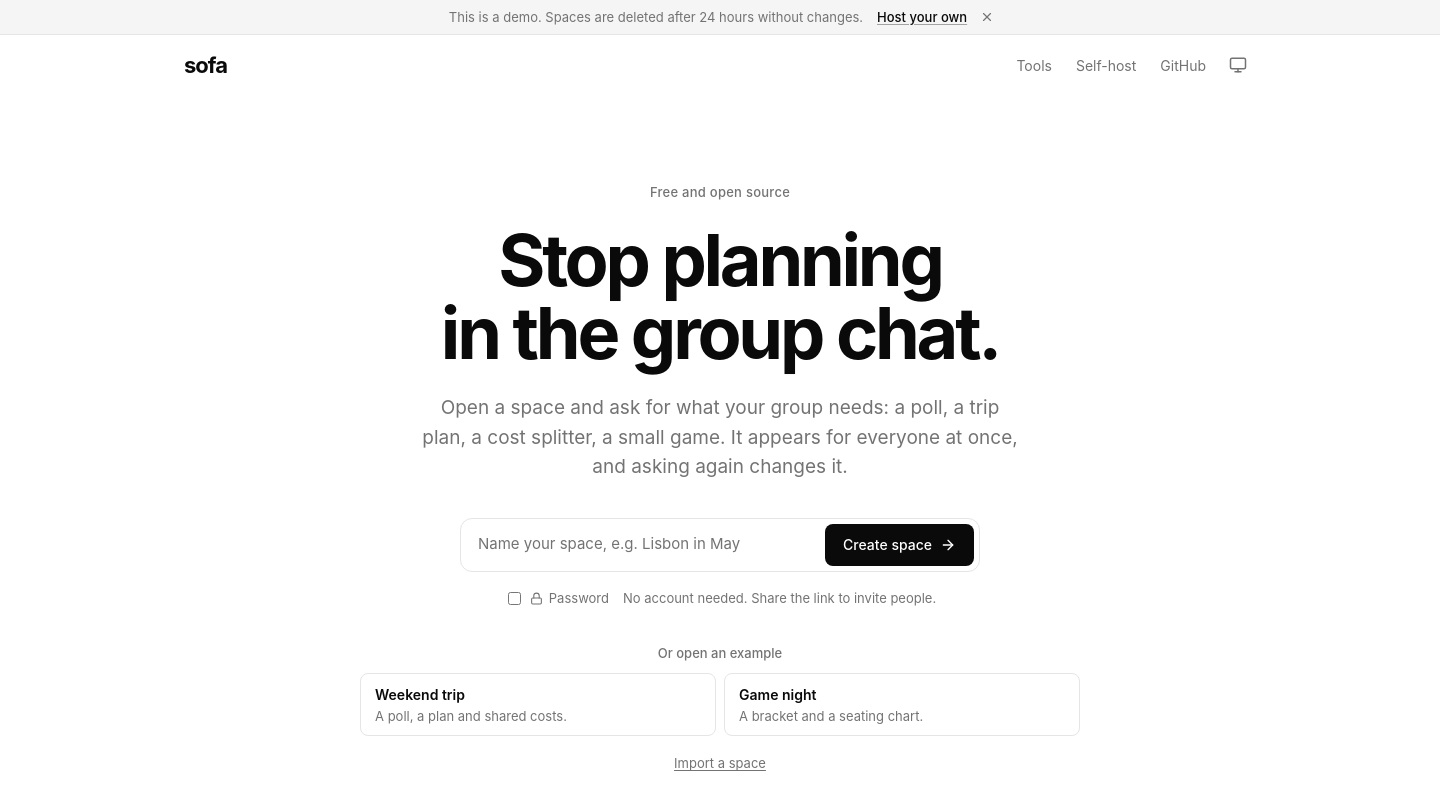
examples on the landing page › creates a user id when nobody has chosen a name yet, and shows errors inline
Click the button "Game night A bracket and a seating chart.". click: (778, 695)
box: [724, 673, 1080, 736]
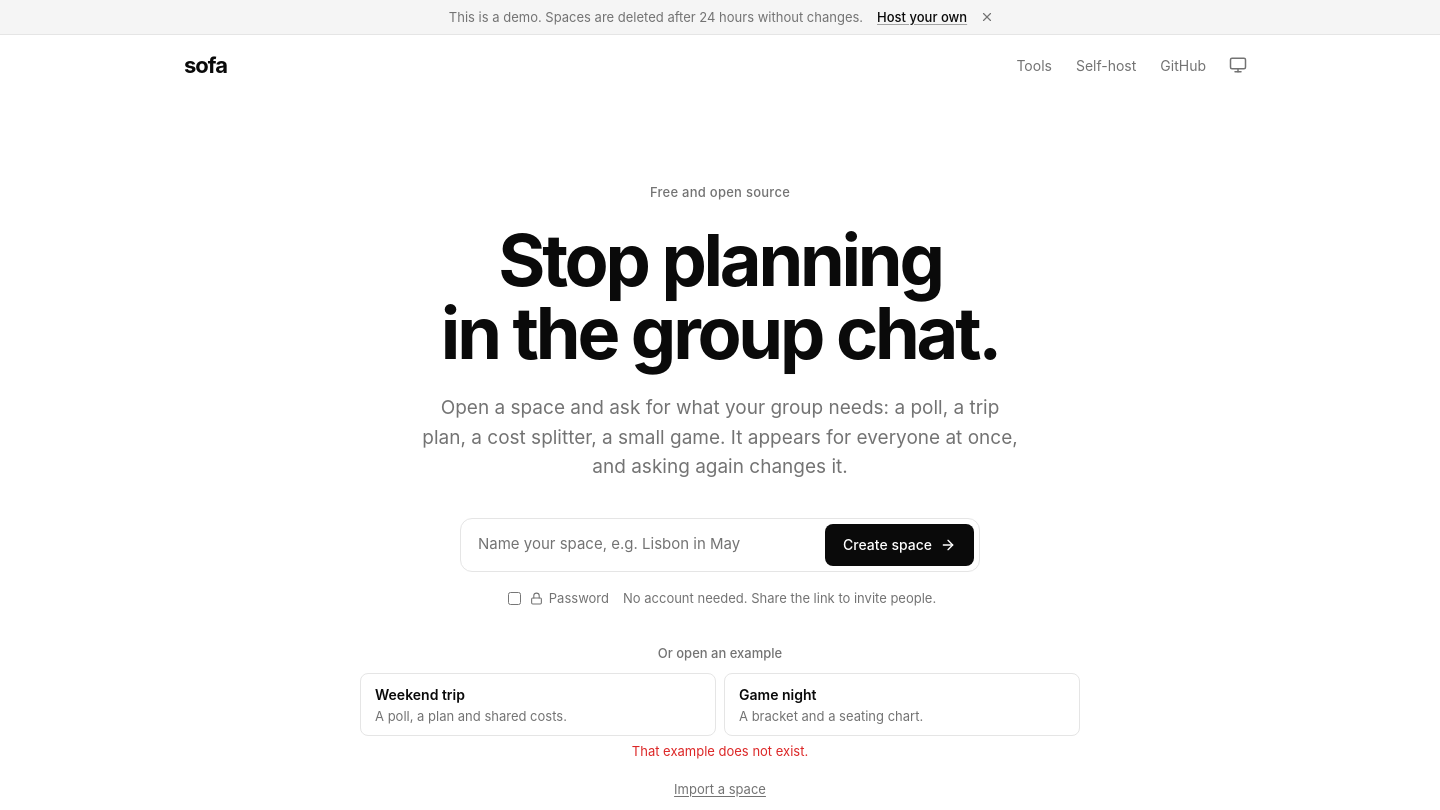
Expected: the message reads "That example does not exist.", [632, 743, 808, 759]
